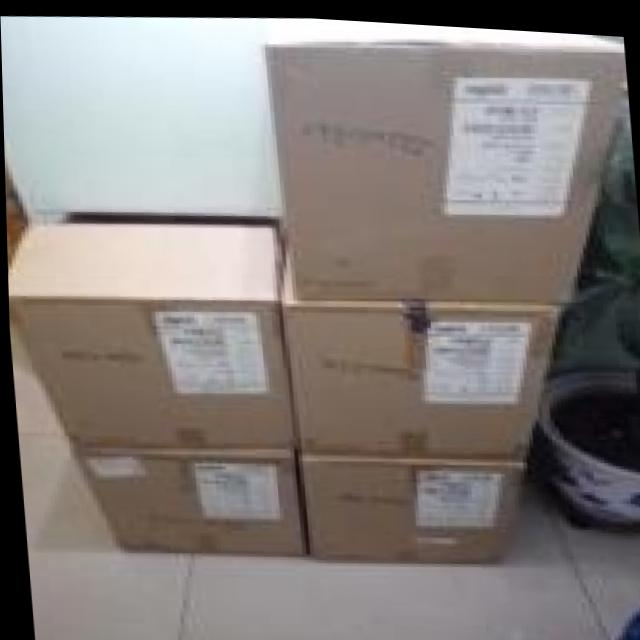box: (257, 16, 628, 297), (7, 204, 297, 448), (275, 249, 562, 456), (70, 444, 302, 554), (298, 448, 523, 559)
